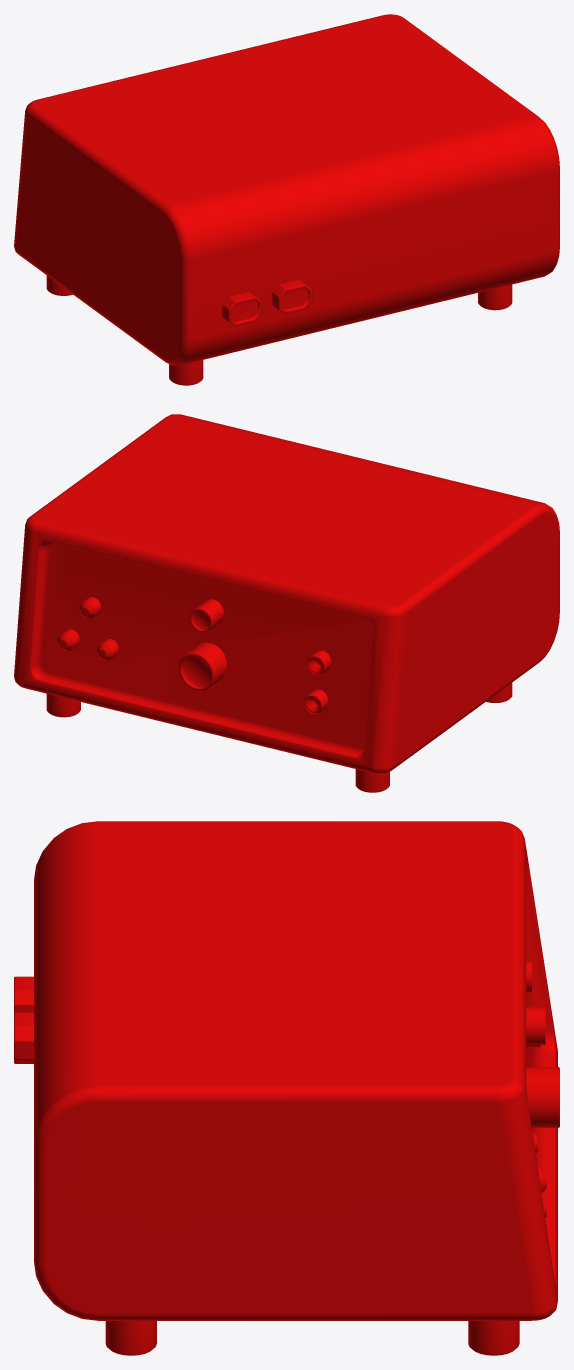
File: Equipment_30.fbx
The picture shows the model from 3 angles, top to bottom: view 1: azimuth 30°, elevation 25°; view 2: azimuth 150°, elevation 25°; view 3: azimuth 270°, elevation 25°; orthographic projection. The views are drawn at different scales.
Visible parts, largest first — view 1: L12:pCylinder198; view 2: L12:pCylinder198; view 3: L12:pCylinder198.
Part boxes in pixels (<box>): L12:pCylinder198: <box>14,14,559,385</box>; L12:pCylinder198: <box>14,414,559,792</box>; L12:pCylinder198: <box>14,821,559,1355</box>.
Bounding box in the file's own units: 40.82 × 19.48 × 34.38.
